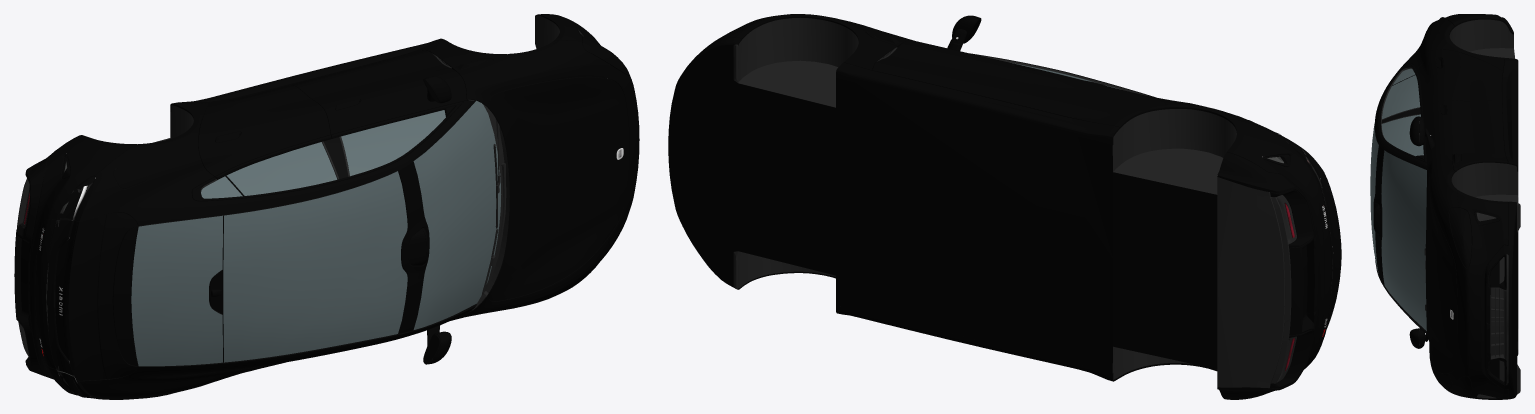
Rendered from car_body.obj.
3 renders of one model, left to right at view 1: azimuth 30°, elevation 25°; view 2: azimuth 150°, elevation 25°; view 3: azimuth 270°, elevation 25°, orthographic. The views are drawn at different scales.
Parts seen in each view (by area): view 1: car_body; view 2: car_body; view 3: car_body.
Boxes of the visible parts, x1,y1,x2,y2 form: car_body: [14, 14, 639, 399]; car_body: [668, 14, 1341, 399]; car_body: [1370, 14, 1520, 399].
Bounding box in the file's own units: 0.5004 × 0.2243 × 0.133.
1 material, 1 textured.
